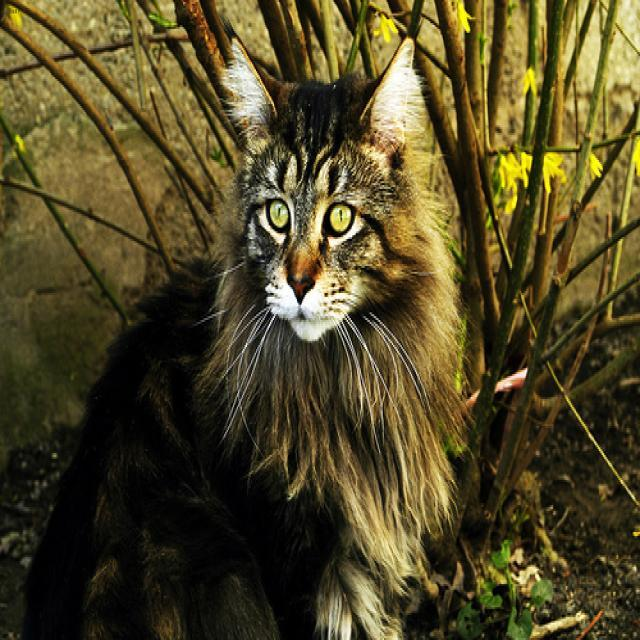Maine_Coon: (217, 29, 431, 352)
